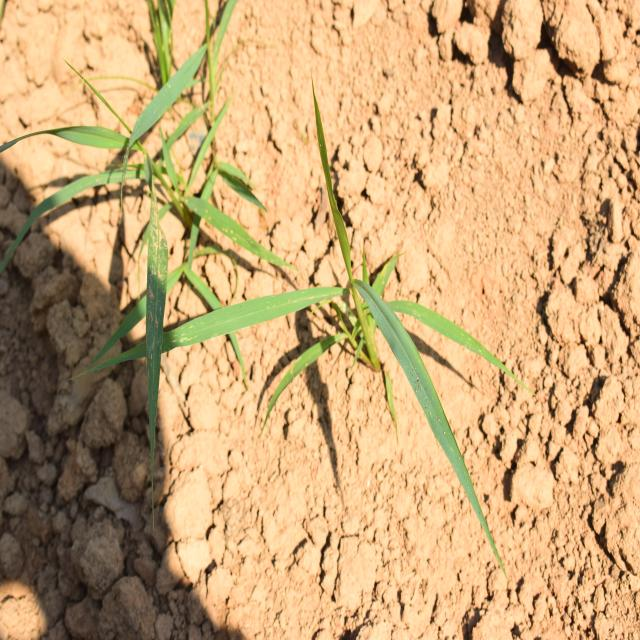green_foxtail: (187, 211, 473, 449), (26, 61, 271, 315)
